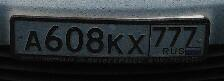license-plateSW: (12, 18, 206, 57)
